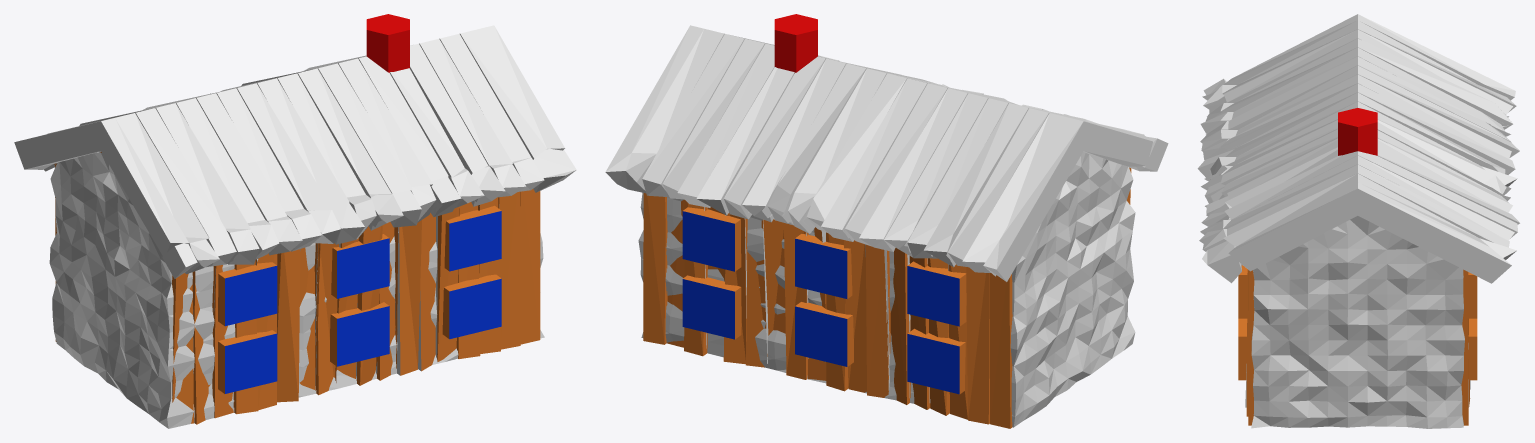
Rendered from apartment_true.dae.
3 renders of one model, left to right at view 1: azimuth 30°, elevation 25°; view 2: azimuth 150°, elevation 25°; view 3: azimuth 270°, elevation 25°, orthographic. The views are drawn at different scales.
Visible parts, largest first — view 1: Cube, Cube.001; view 2: Cube, Cube.001; view 3: Cube, Cube.001.
Part boxes in pixels (x1,y1,x2,y2): Cube: [14, 14, 576, 424]; Cube.001: [49, 152, 544, 428]; Cube: [605, 14, 1168, 428]; Cube.001: [638, 152, 1135, 427]; Cube: [1197, 14, 1519, 425]; Cube.001: [1251, 216, 1464, 428].
Bounding box in the file's own units: 28 × 21.89 × 20.01.
